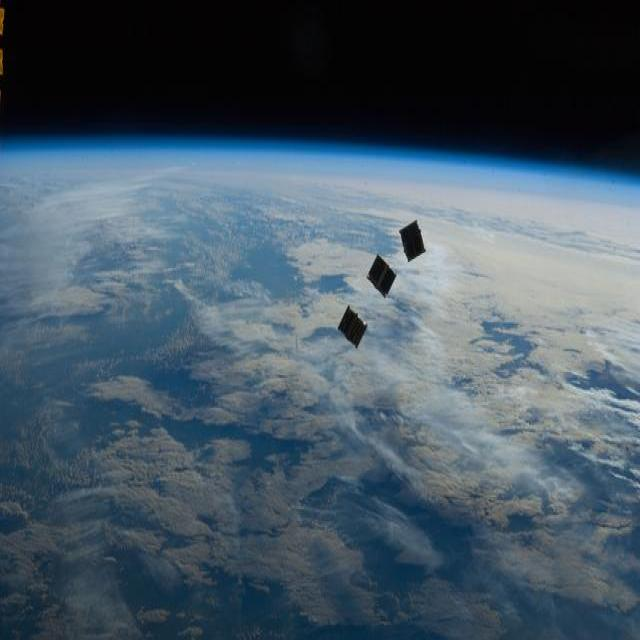satellite: (338, 305, 368, 347), (368, 254, 396, 296), (400, 220, 425, 261)
